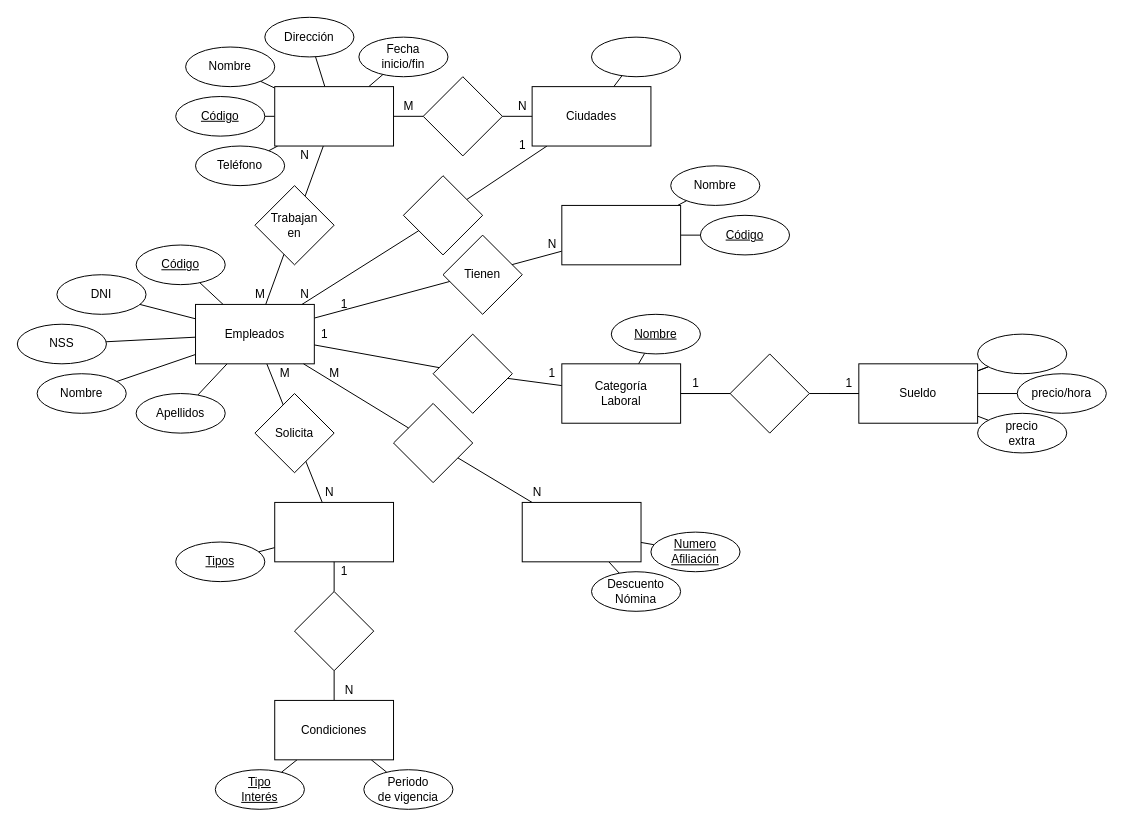
Image size: 1124x827. Some labels were removed from this diagram. Each missing label, with the centre of its shape:
Agencias: [334,116]
Base: [1022,353]
le corresponden: [769,393]
Num. Habitantes: [636,56]
Pertenecen: [472,373]
Préstamo: [334,531]
se afilian: [433,442]
Sindicato: [581,531]
situadas en: [462,116]
Tiene: [334,631]
Títulos académicos: [621,234]
Viven en: [442,215]
